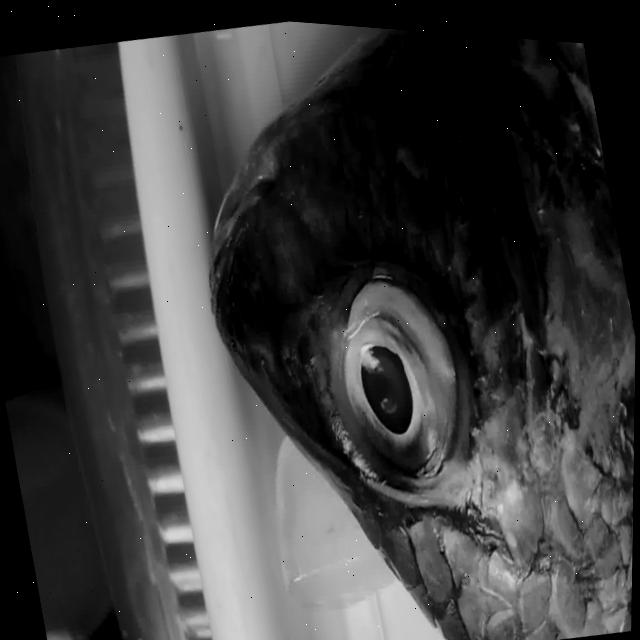Fresh: (293, 245, 501, 564)
